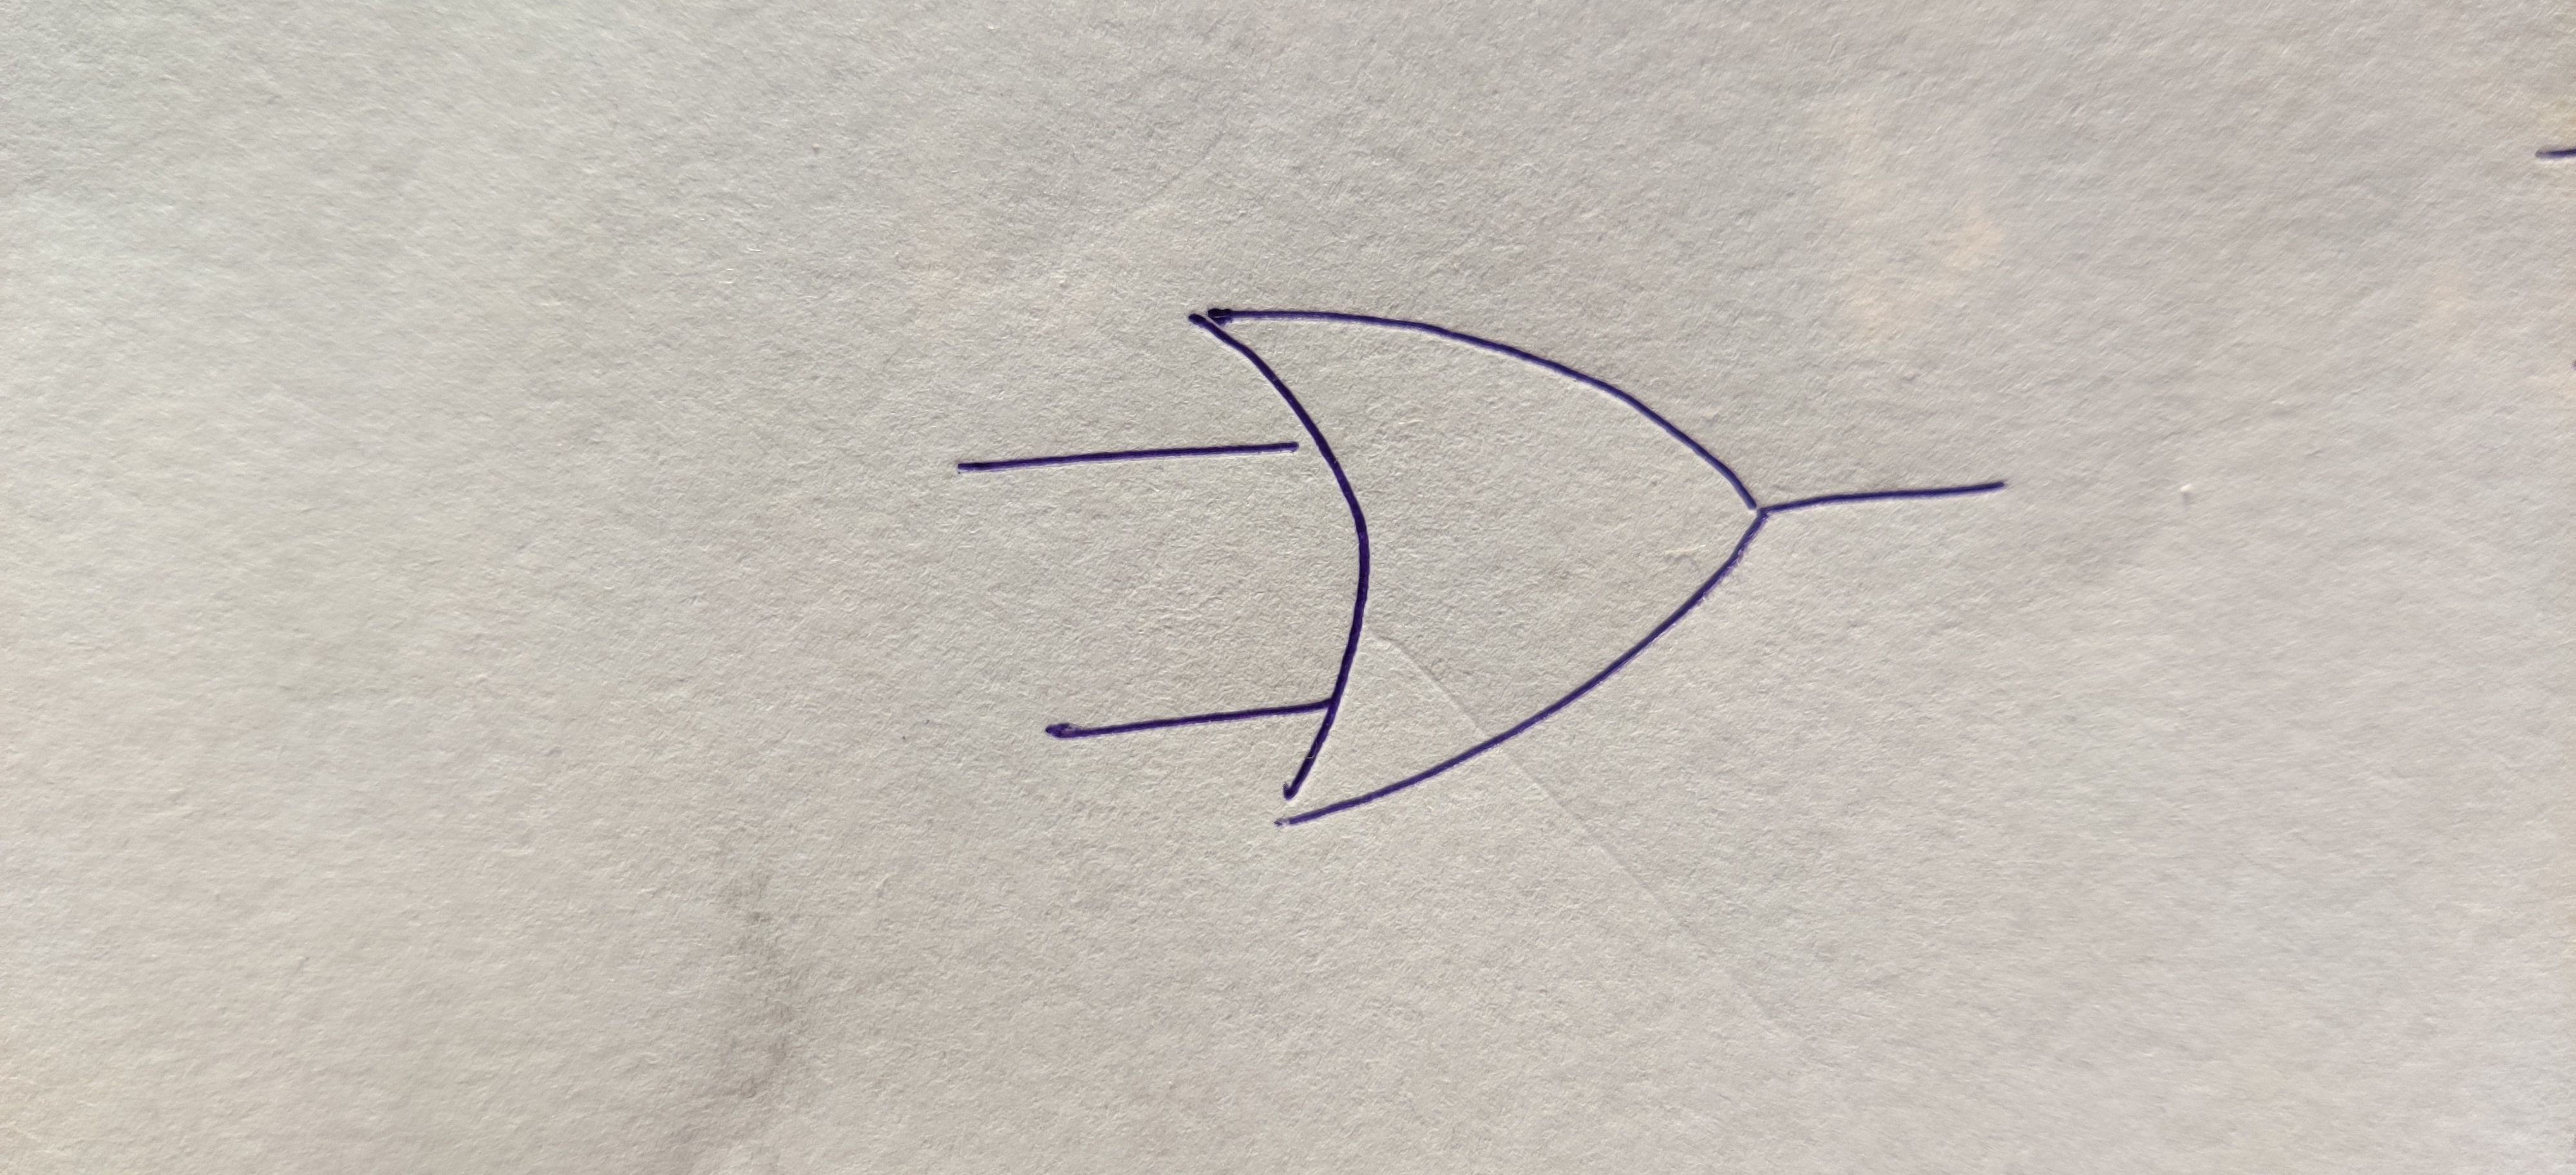or: (1189, 306, 1769, 827)
